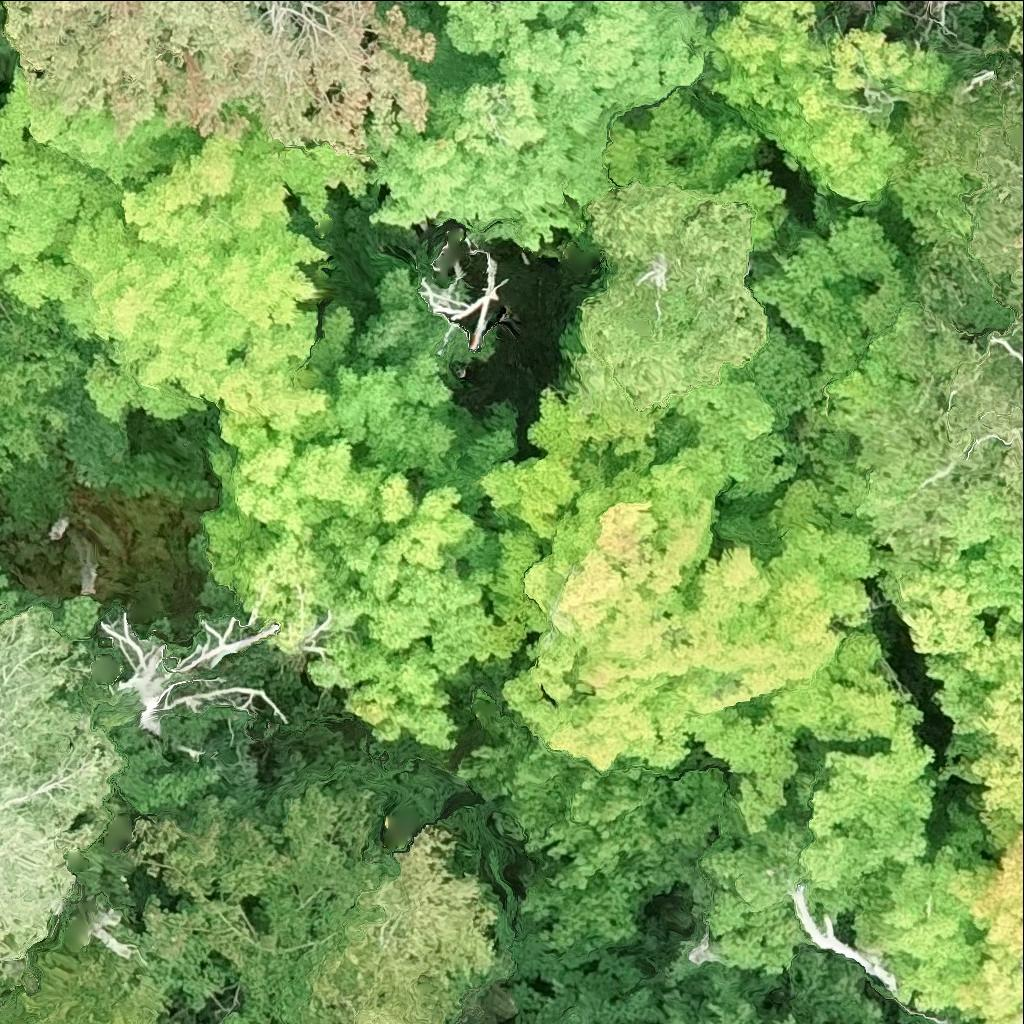crown: (458, 358, 877, 777), (208, 311, 529, 744), (0, 62, 369, 429), (372, 0, 705, 249), (681, 606, 935, 890), (3, 0, 437, 165), (459, 709, 731, 953), (671, 729, 928, 975), (755, 199, 917, 544), (0, 570, 127, 975), (703, 0, 952, 202), (279, 826, 514, 1023), (868, 495, 1023, 783), (578, 182, 771, 413), (856, 835, 1023, 1023), (100, 606, 287, 736), (663, 933, 887, 1023), (131, 791, 293, 903), (0, 300, 77, 473), (944, 324, 1023, 485), (112, 716, 220, 816), (973, 671, 1023, 850), (416, 250, 496, 357), (20, 961, 157, 1023), (981, 0, 1023, 59), (1003, 277, 1023, 340), (920, 0, 966, 24), (352, 1011, 409, 1023), (0, 0, 4, 11), (0, 283, 3, 291)
